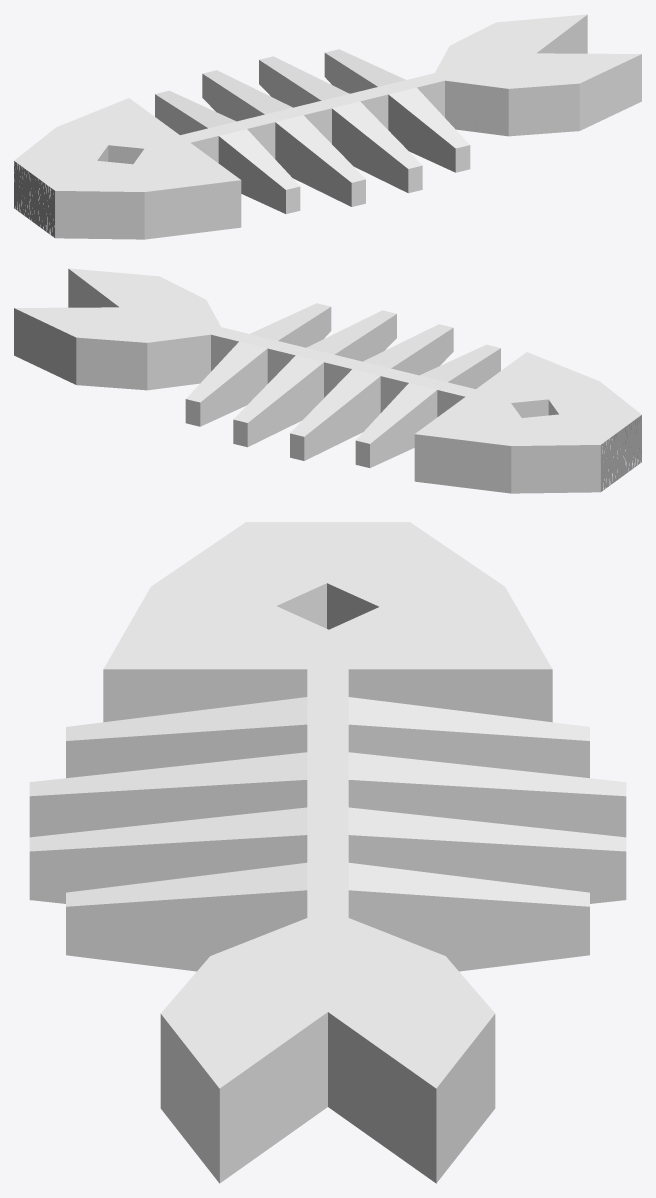
File: Fish Bone 1.fbx
3 views of the same model, one above another, from view 1: azimuth 30°, elevation 25°; view 2: azimuth 150°, elevation 25°; view 3: azimuth 270°, elevation 25° (orthographic). The views are drawn at different scales.
Visible parts, largest first — view 1: Box002; view 2: Box002; view 3: Box002.
Boxes of the visible parts, x1,y1,x2,y2 form: Box002: [14, 14, 641, 239]; Box002: [14, 268, 641, 493]; Box002: [29, 522, 626, 1183].
Size of the model in its own units: 43.54 by 3.41 by 19.39.
1 material, 1 textured.
